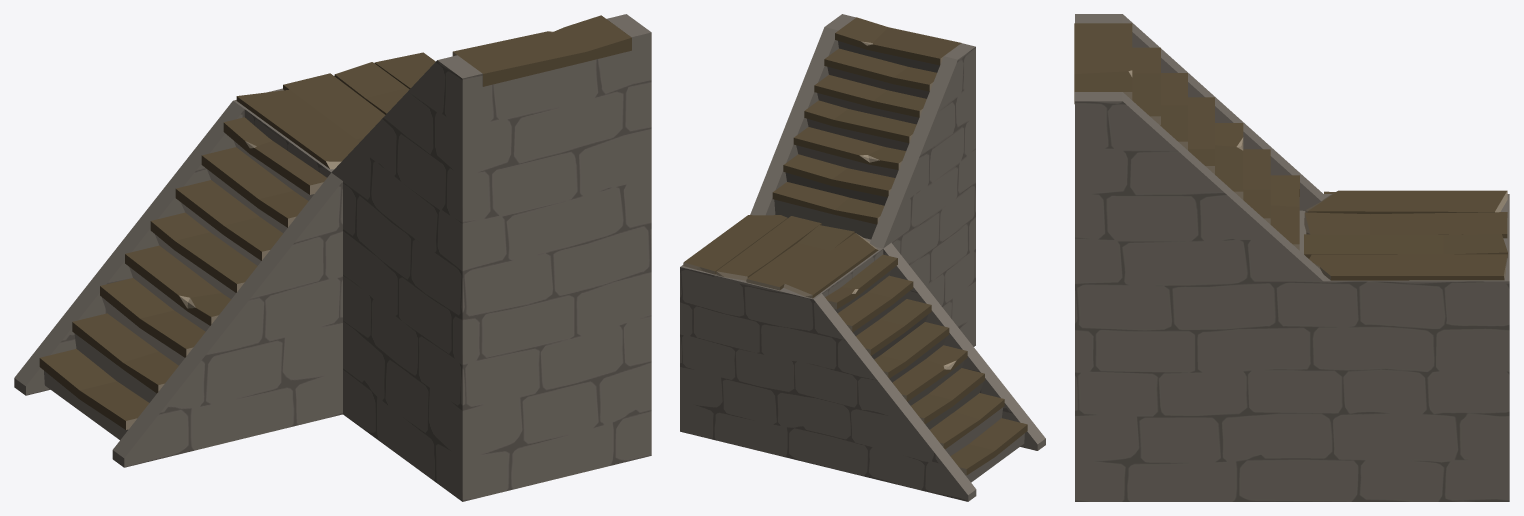
The model's file is SM_Polygonal_Stone_Stairs.fbx.
3 renders of one model, left to right at view 1: azimuth 30°, elevation 25°; view 2: azimuth 150°, elevation 25°; view 3: azimuth 270°, elevation 25°, orthographic. The views are drawn at different scales.
Visible parts, largest first — view 1: SM_Polygonal_Stone_Stairs_LOD0; view 2: SM_Polygonal_Stone_Stairs_LOD0; view 3: SM_Polygonal_Stone_Stairs_LOD0.
Boxes of the visible parts, bbox=[...] form: SM_Polygonal_Stone_Stairs_LOD0: bbox=[14, 14, 651, 501]; SM_Polygonal_Stone_Stairs_LOD0: bbox=[680, 14, 1045, 501]; SM_Polygonal_Stone_Stairs_LOD0: bbox=[1074, 14, 1509, 501].
Bounding box in the file's own units: 309 × 302 × 307.
Materials: 1 (1 with a texture image).
